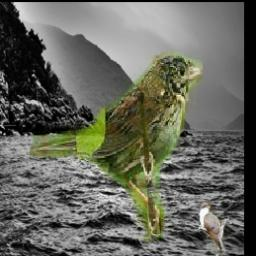Cuckoo: (200, 202, 230, 256)
Sparrow: (31, 52, 204, 242)
